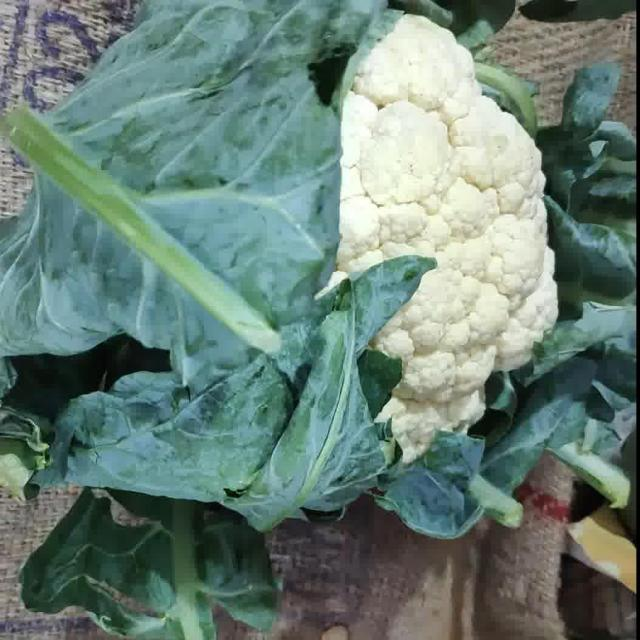Cauliflower: (336, 14, 556, 463)
